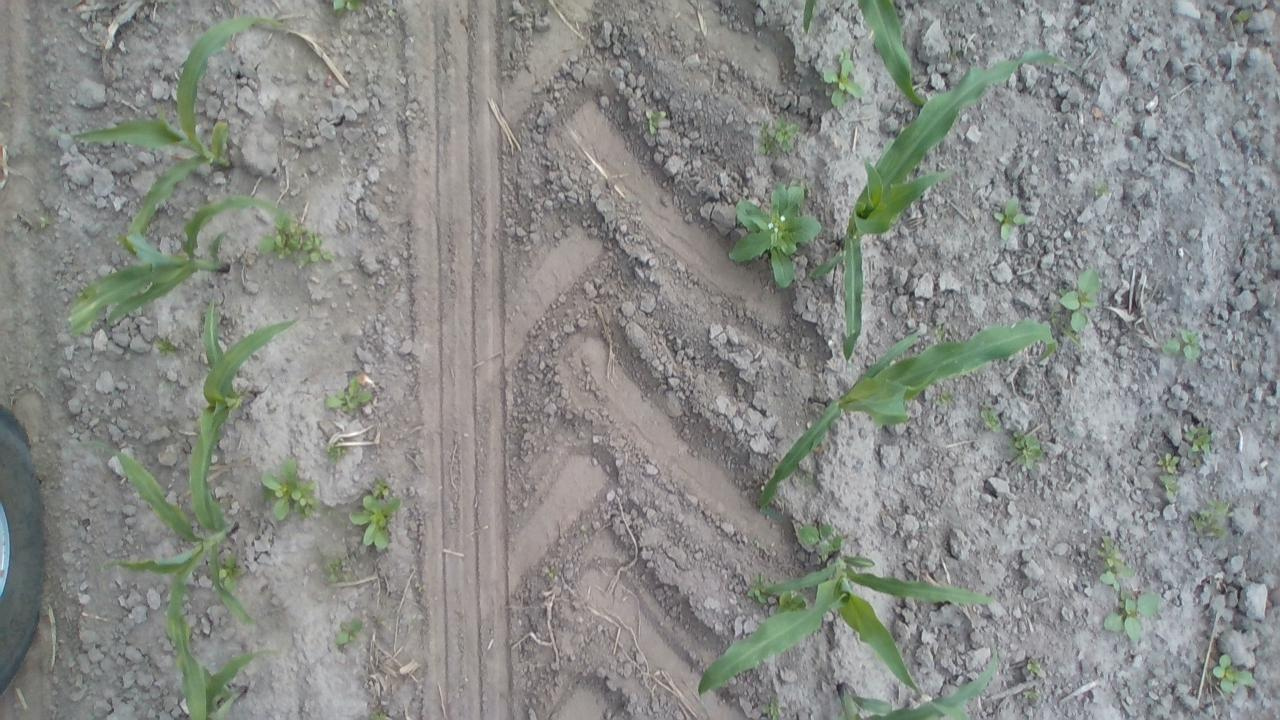Maize: (809, 42, 1080, 370), (755, 320, 1058, 518), (64, 14, 288, 259), (82, 447, 259, 709), (694, 550, 996, 702), (66, 182, 294, 354), (186, 294, 304, 526), (835, 631, 1000, 720), (856, 0, 928, 109), (170, 648, 262, 720), (801, 0, 817, 36)
Weeds: (726, 180, 824, 290), (256, 448, 321, 526), (344, 476, 400, 551), (318, 364, 387, 418), (1057, 264, 1105, 340), (820, 43, 866, 111), (1102, 586, 1160, 639), (258, 212, 304, 264), (1094, 534, 1136, 590), (1185, 496, 1232, 544), (1208, 654, 1260, 696), (796, 518, 845, 560), (758, 116, 798, 158), (1006, 430, 1046, 472), (1158, 325, 1203, 362), (992, 192, 1025, 242), (1182, 420, 1218, 460), (329, 620, 370, 652), (741, 568, 772, 608), (301, 231, 335, 266), (216, 554, 247, 590), (774, 591, 806, 613), (979, 410, 1006, 434), (644, 108, 666, 137), (322, 555, 344, 584), (316, 440, 341, 465), (330, 0, 360, 19), (1024, 656, 1046, 681), (760, 700, 786, 720), (156, 334, 177, 357), (1152, 474, 1178, 491), (1236, 6, 1256, 26), (1158, 450, 1178, 470), (932, 392, 956, 405), (1019, 688, 1038, 704), (1096, 178, 1110, 198), (38, 215, 53, 230), (369, 709, 386, 720)
